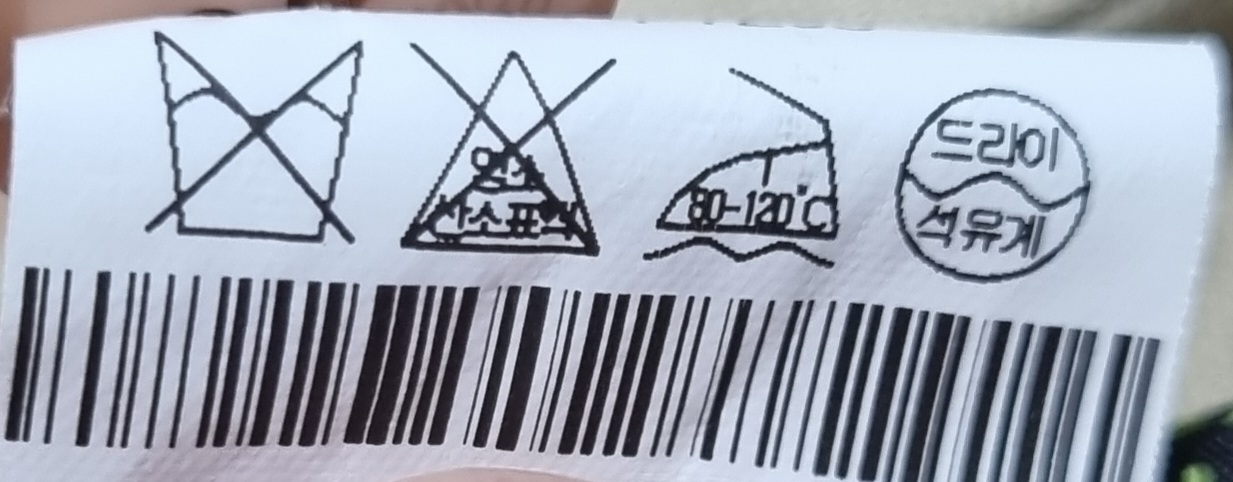KR_dry_clean_petroleum: (895, 69, 1097, 297)
KR_iron_low_temp_with_cloth: (645, 53, 846, 277)
KR_no_bleach: (398, 40, 612, 266)
KR_no_wash: (146, 33, 362, 252)
